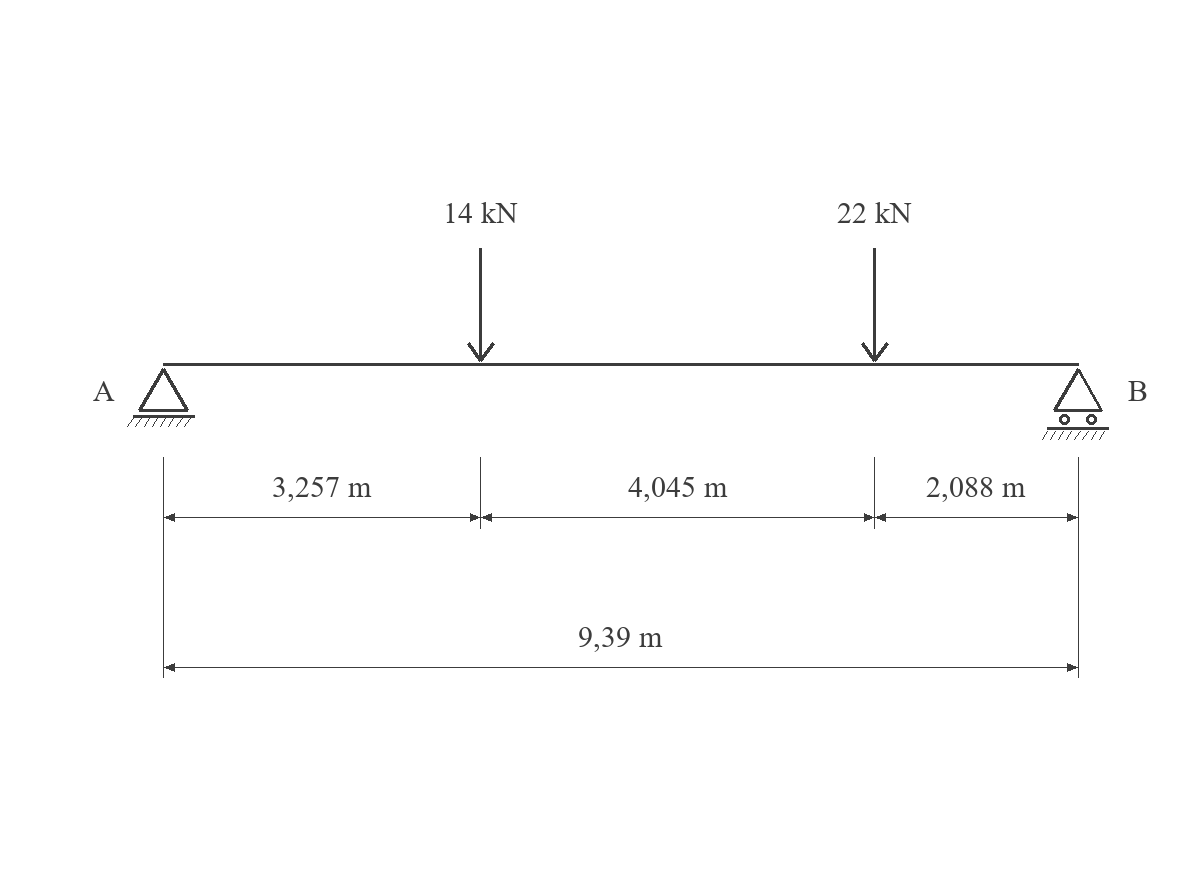pin_support: (127, 368, 195, 427)
point_load: (467, 248, 495, 362), (861, 248, 889, 362)
roller_support: (1042, 368, 1109, 440)
